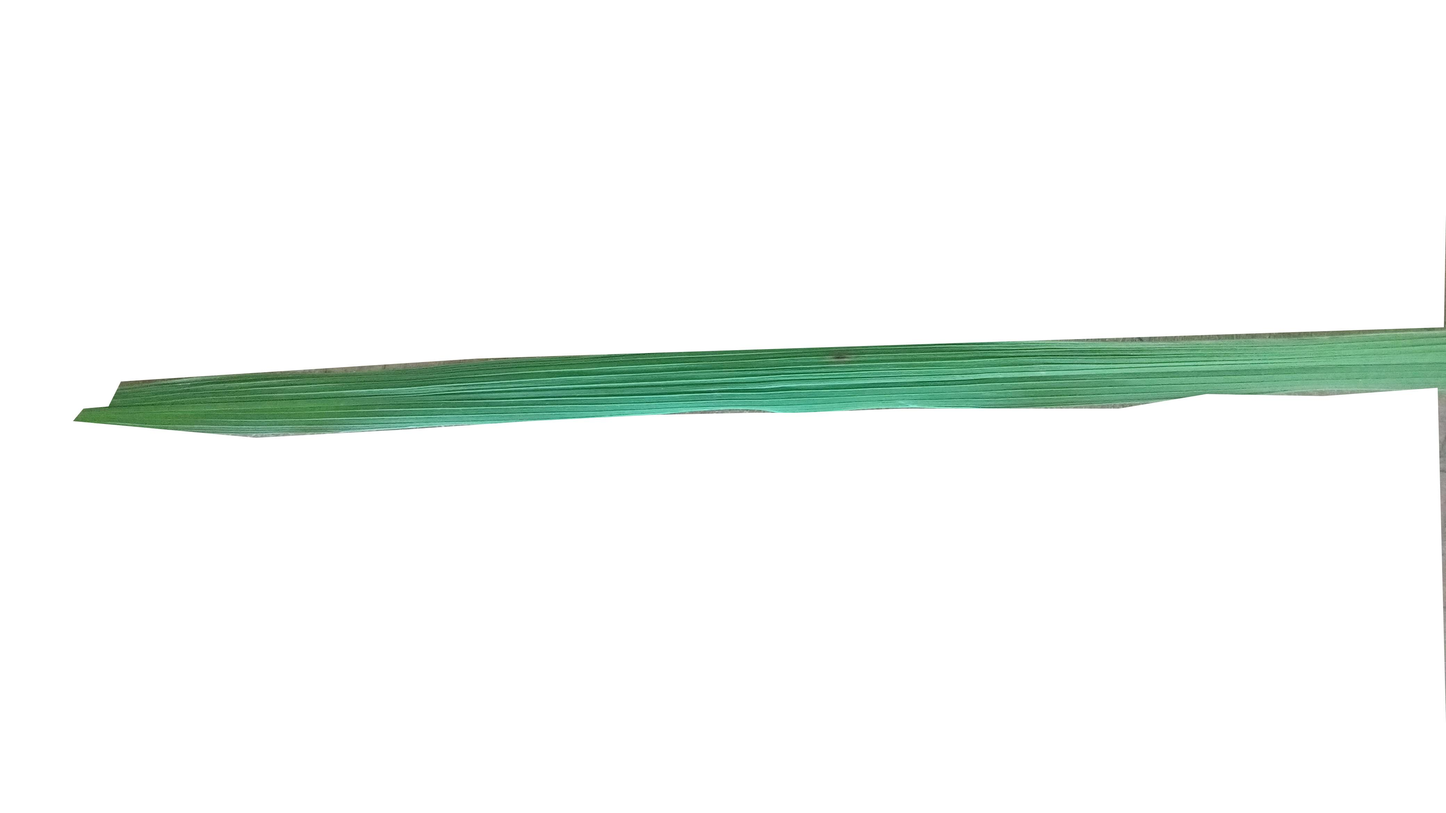Brown spot: (829, 353, 852, 364)
